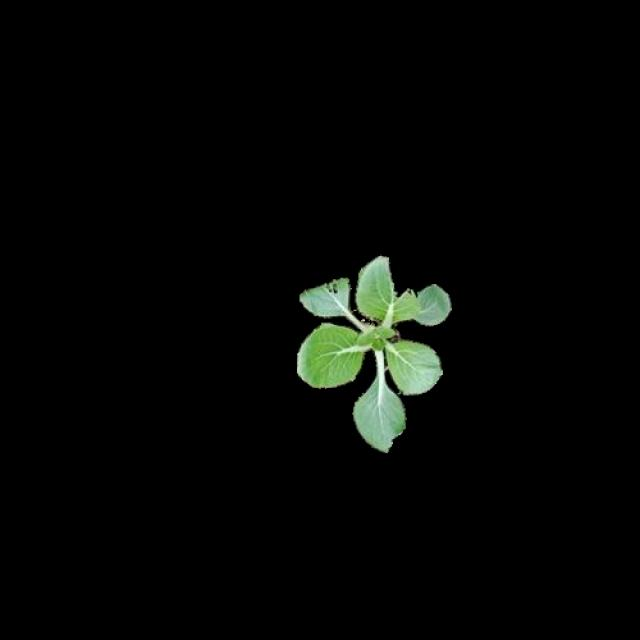not-mature: (301, 256, 452, 448)
unhealthy: (358, 260, 422, 322)
